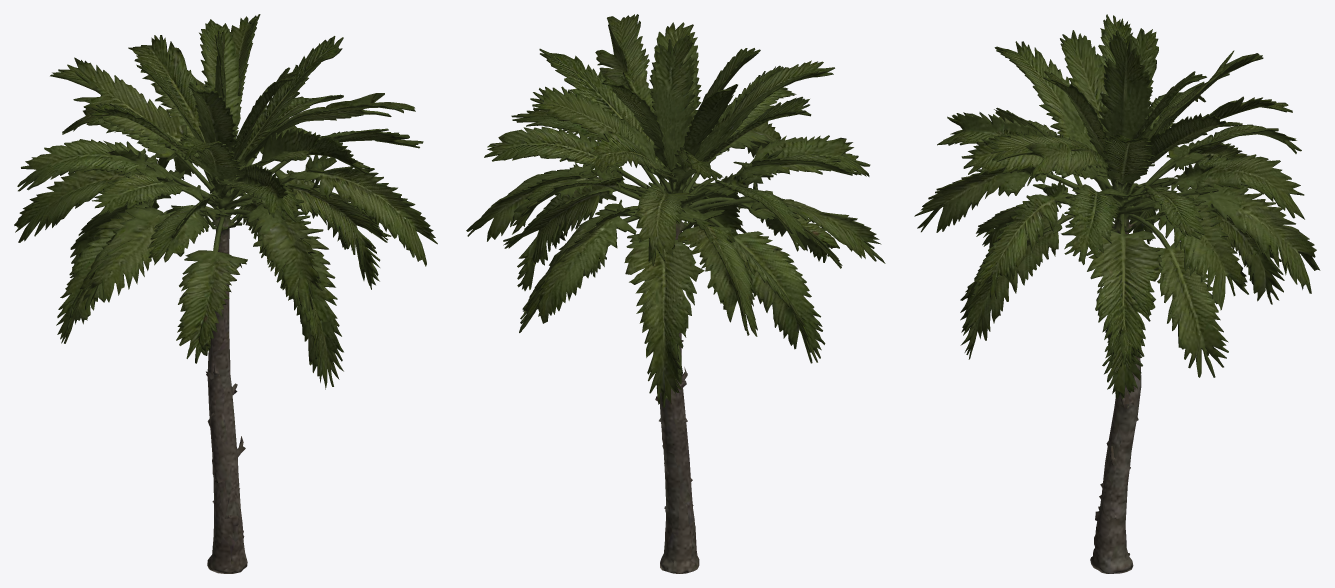
Rendered from tree-palm.glb.
3 views of the same model, side by side, from view 1: azimuth 30°, elevation 25°; view 2: azimuth 150°, elevation 25°; view 3: azimuth 270°, elevation 25° (orthographic).
Parts seen in each view (by area): view 1: tripo_node_baf4a1e3-62fc-4c92-8bad-5bc2f0cca483; view 2: tripo_node_baf4a1e3-62fc-4c92-8bad-5bc2f0cca483; view 3: tripo_node_baf4a1e3-62fc-4c92-8bad-5bc2f0cca483.
Part boxes in pixels (x1=…): tripo_node_baf4a1e3-62fc-4c92-8bad-5bc2f0cca483: x1=14, y1=14, x2=437, y2=573; tripo_node_baf4a1e3-62fc-4c92-8bad-5bc2f0cca483: x1=466, y1=14, x2=885, y2=573; tripo_node_baf4a1e3-62fc-4c92-8bad-5bc2f0cca483: x1=914, y1=14, x2=1320, y2=573.
Bounding box in the file's own units: 3.15 × 4.5 × 3.12.
1 material, 1 textured.
